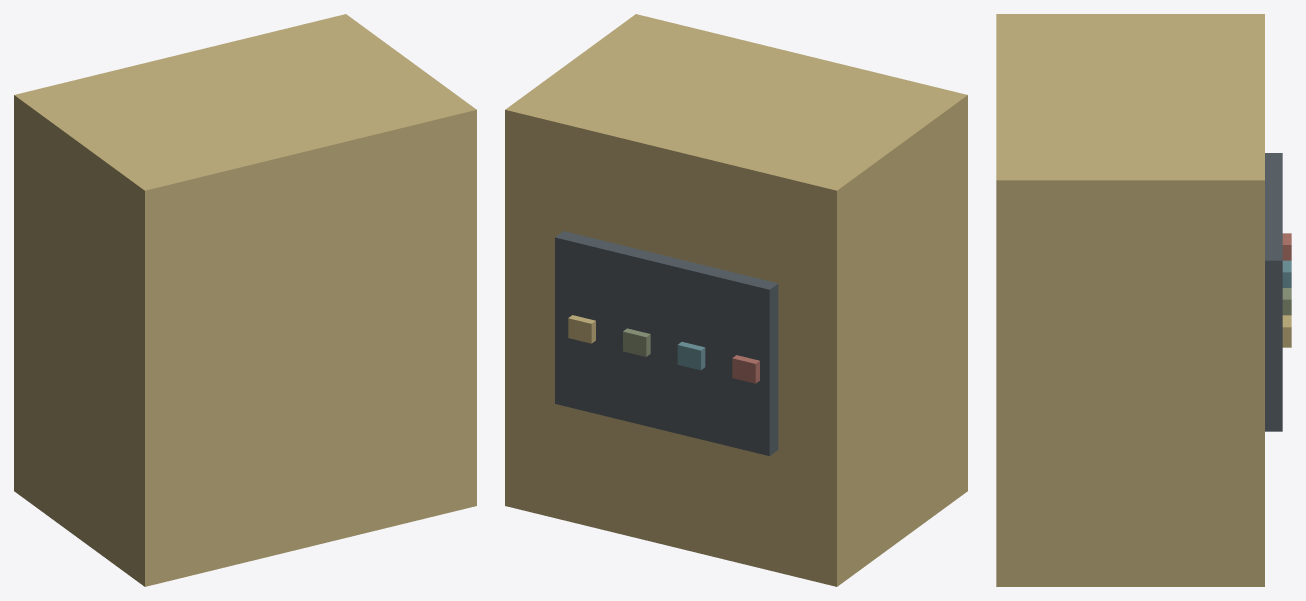
The model's file is iz2_power_pedal_generator.glb.
3 renders of one model, left to right at view 1: azimuth 30°, elevation 25°; view 2: azimuth 150°, elevation 25°; view 3: azimuth 270°, elevation 25°, orthographic. The views are drawn at different scales.
Visible parts, largest first — view 1: body; view 2: body; view 3: body.
Boxes of the visible parts, x1,y1,x2,y2 form: body: (14, 14, 476, 586); body: (505, 14, 967, 586); body: (996, 14, 1291, 586).
Size of the model in its own units: 0.8811 by 1 by 0.6617.
